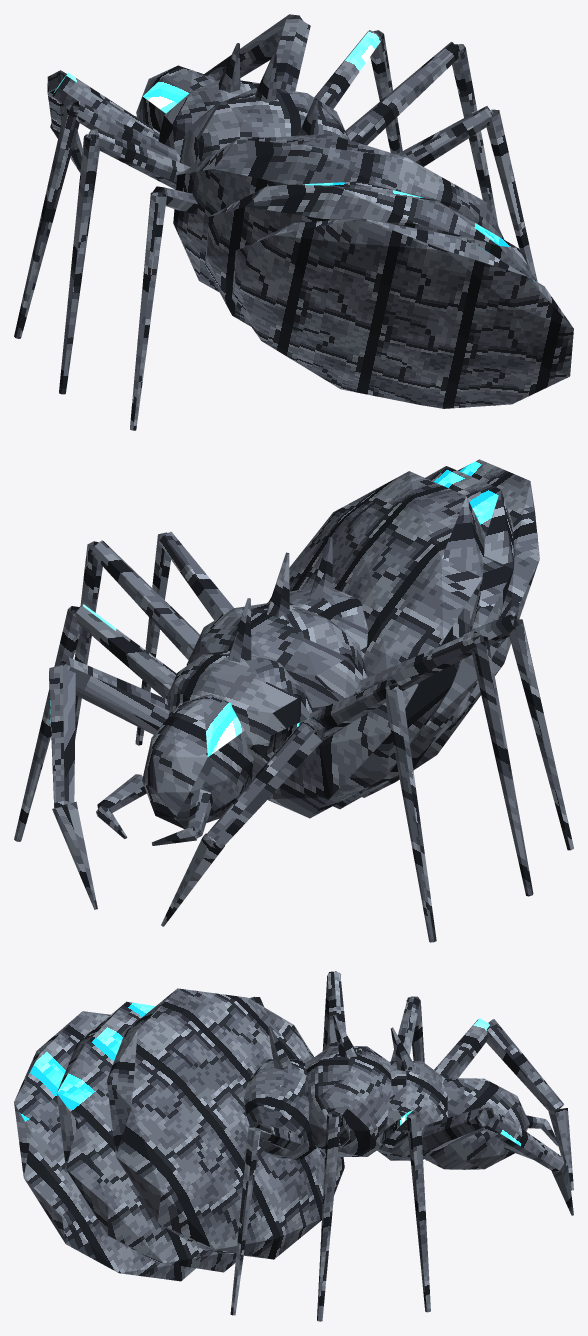
File: chasm_stalker.glb
3 views of the same model, one above another, from view 1: azimuth 30°, elevation 25°; view 2: azimuth 150°, elevation 25°; view 3: azimuth 270°, elevation 25° (orthographic). The views are drawn at different scales.
Parts seen in each view (by area): view 1: ChasmStalker; view 2: ChasmStalker; view 3: ChasmStalker.
Boxes of the visible parts, left/top/right/bottom form: ChasmStalker: left=14, top=14, right=573, bottom=430; ChasmStalker: left=14, top=459, right=573, bottom=942; ChasmStalker: left=14, top=971, right=573, bottom=1321.
Size of the model in its own units: 2.84 by 1.82 by 3.88.
Materials: 1 (1 with a texture image).
